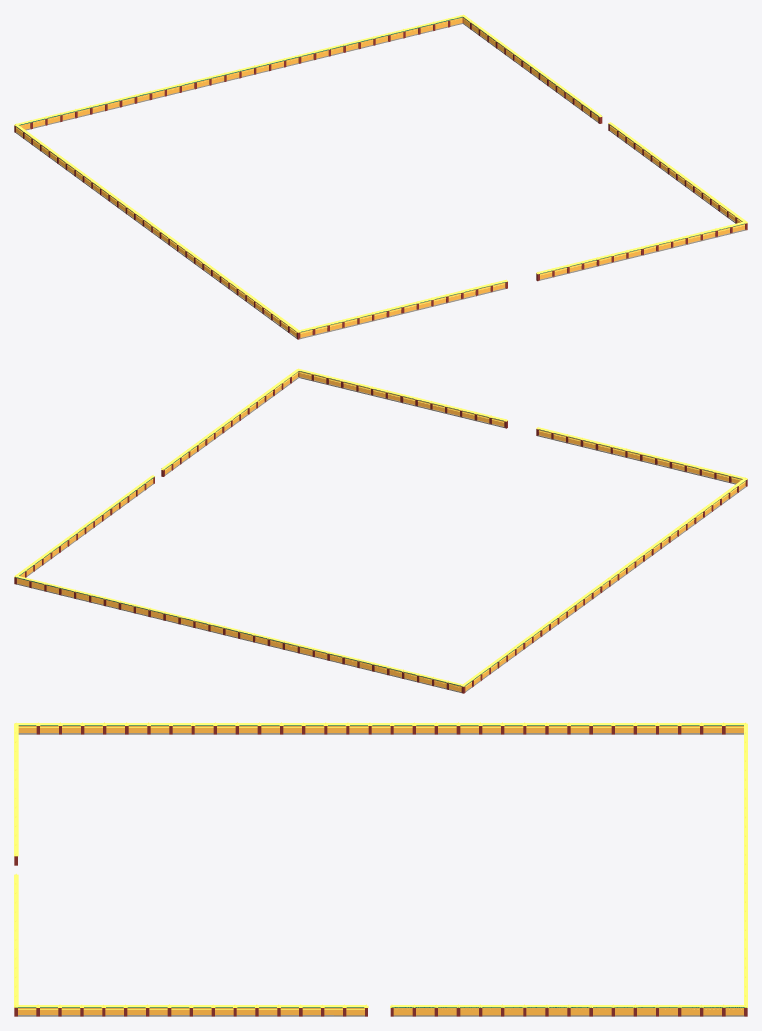
File: perimeter-wall.glb
3 views of the same model, one above another, from view 1: azimuth 30°, elevation 25°; view 2: azimuth 150°, elevation 25°; view 3: azimuth 270°, elevation 25° (orthographic). The views are drawn at different scales.
Parts seen in each view (by area): view 1: perimeter-wall; view 2: perimeter-wall; view 3: perimeter-wall.
Part boxes in pixels (left/top/right/bottom): perimeter-wall: left=14, top=14, right=747, bottom=339; perimeter-wall: left=14, top=368, right=747, bottom=693; perimeter-wall: left=14, top=722, right=747, bottom=1016.
Size of the model in its own units: 183 by 3.5 by 200.
